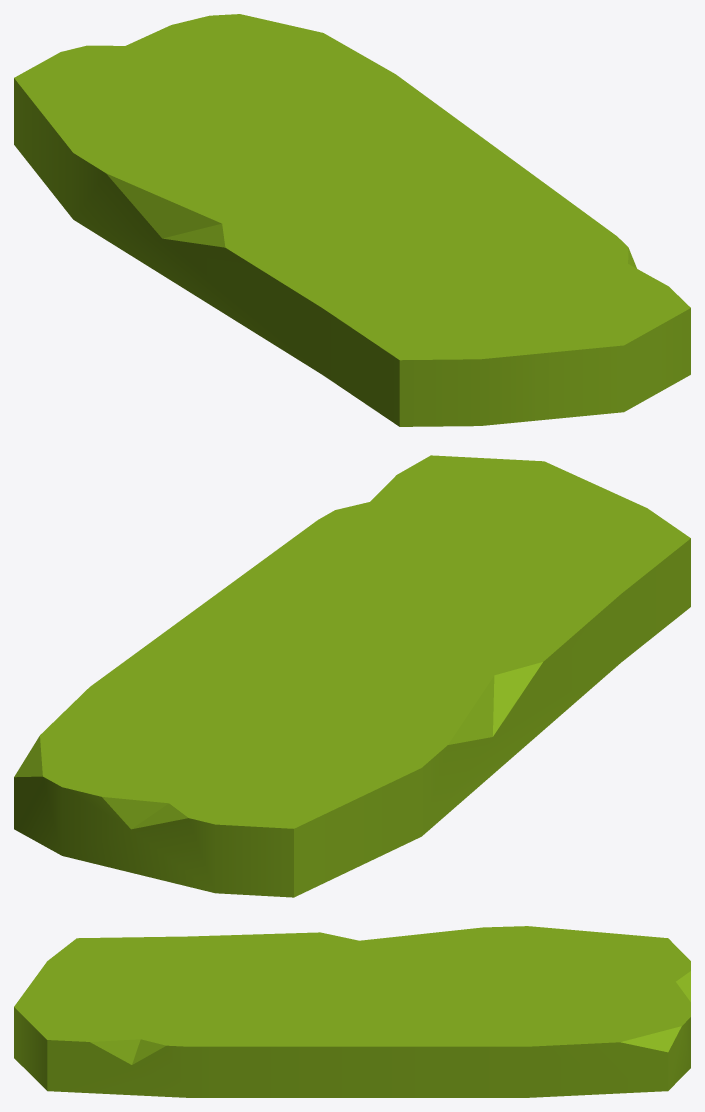
The picture shows the model from 3 angles, top to bottom: view 1: azimuth 30°, elevation 25°; view 2: azimuth 150°, elevation 25°; view 3: azimuth 270°, elevation 25°; orthographic projection. The views are drawn at different scales.
Visible parts, largest first — view 1: Box001; view 2: Box001; view 3: Box001.
Boxes of the visible parts, left/top/right/bottom form: Box001: left=14, top=14, right=690, bottom=426; Box001: left=14, top=455, right=690, bottom=897; Box001: left=14, top=926, right=690, bottom=1097.
Bounding box in the file's own units: 27.5 × 5.44 × 65.21.
